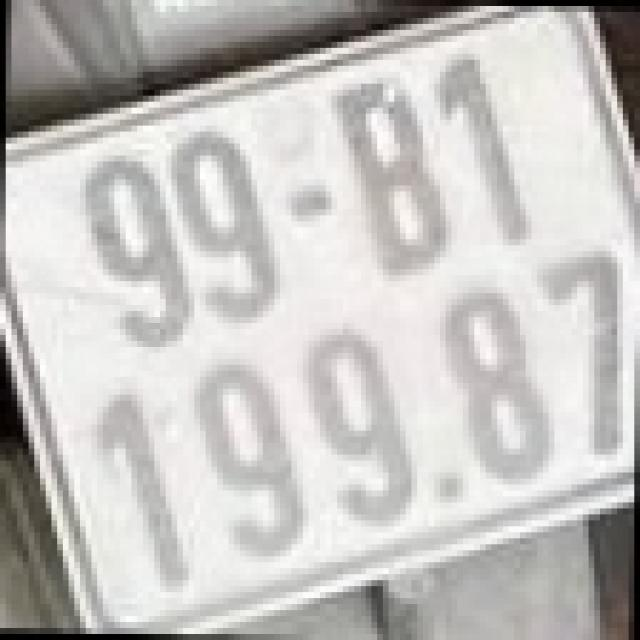1: (97, 371, 194, 592), (440, 48, 543, 251), (543, 245, 634, 455)
8: (446, 281, 554, 485)
9: (309, 323, 417, 526), (80, 149, 189, 347), (200, 359, 303, 562), (177, 126, 280, 323)
B: (337, 72, 452, 275)
